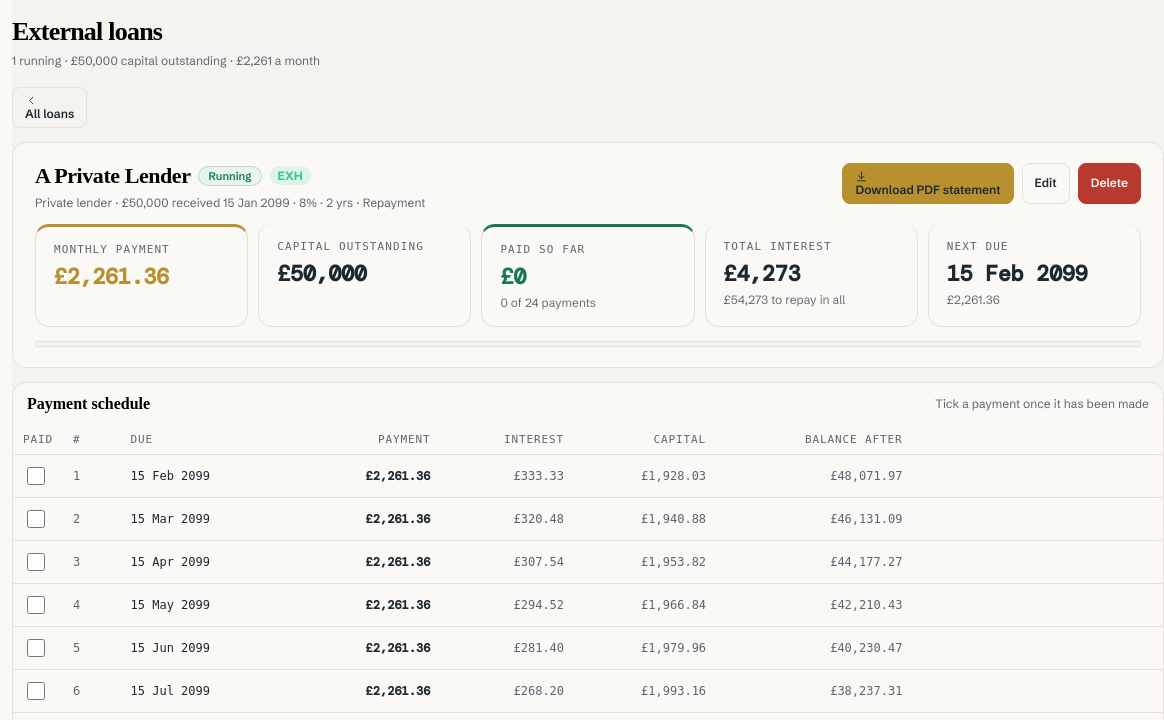
Test case: ExternalLoansPage › ticks a month off from the schedule
Expected: the text "Payment schedule" is shown, [27,395,150,413]
Click the checkbox named "Tick off payment 1 as paid". click: [36, 476]
box: [27,467,45,485]
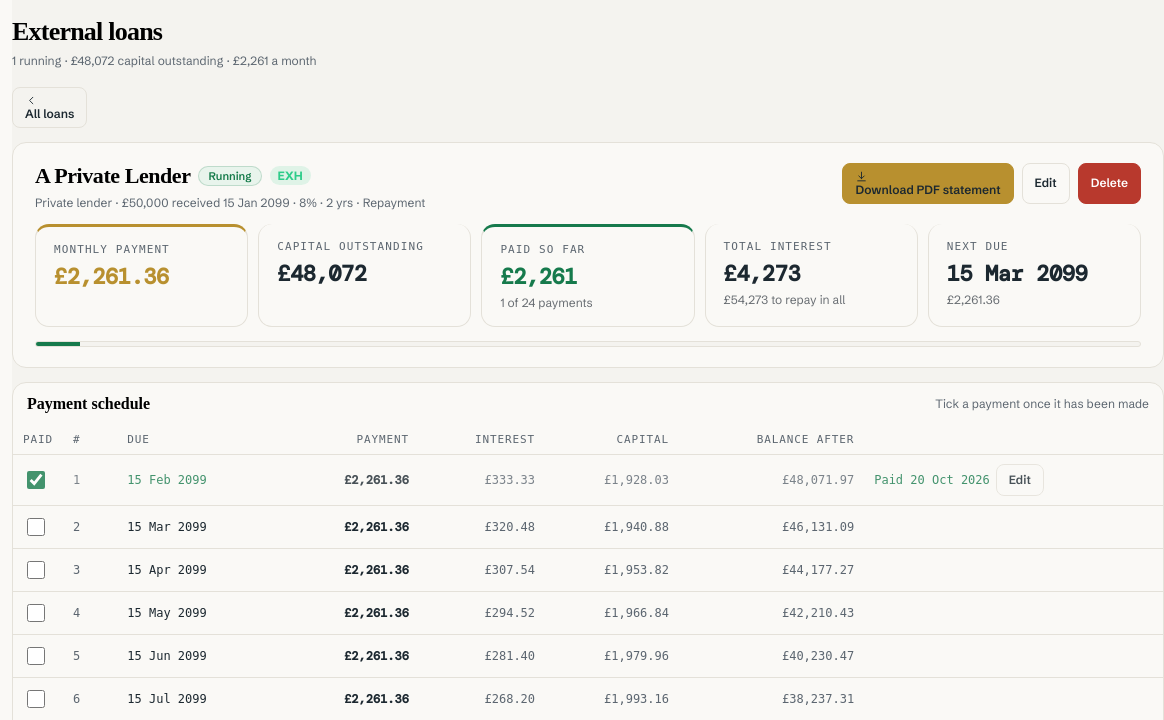
Expected: the checkbox named "Untick payment 1" is checked, [27,471,45,489]
